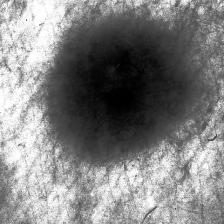Benign Marking or Mole: (55, 26, 194, 153)
